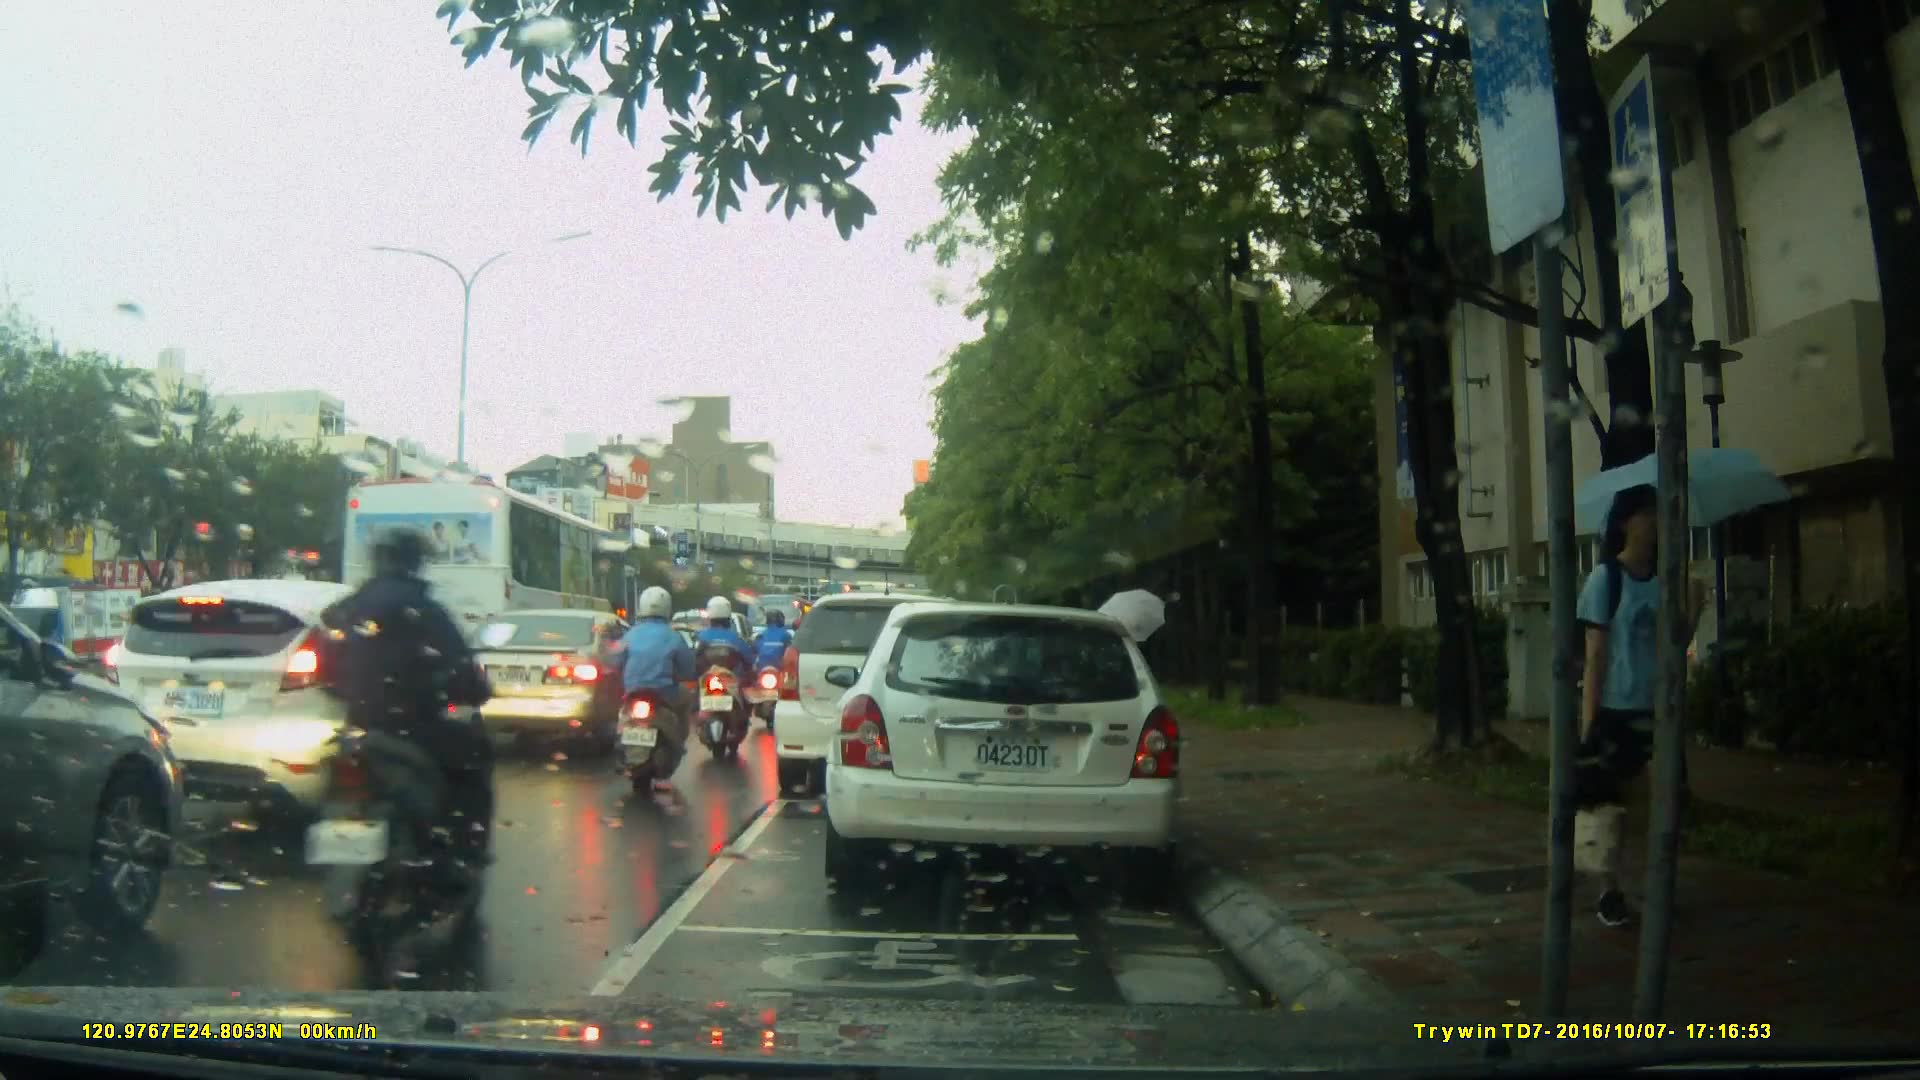pedestrian: (1553, 482, 1711, 953)
rider: (289, 518, 526, 964), (613, 589, 704, 788), (694, 591, 762, 775), (748, 608, 799, 740)
vehicle: (835, 594, 1194, 898), (101, 576, 489, 846), (1, 547, 184, 971), (337, 477, 641, 729), (776, 590, 1026, 784), (437, 606, 673, 754), (1, 586, 155, 697), (615, 621, 721, 710)
